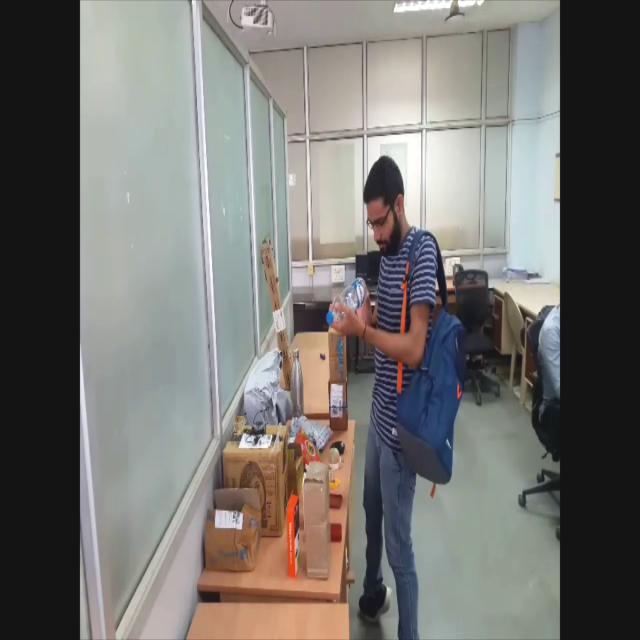normal: (328, 151, 466, 639)
